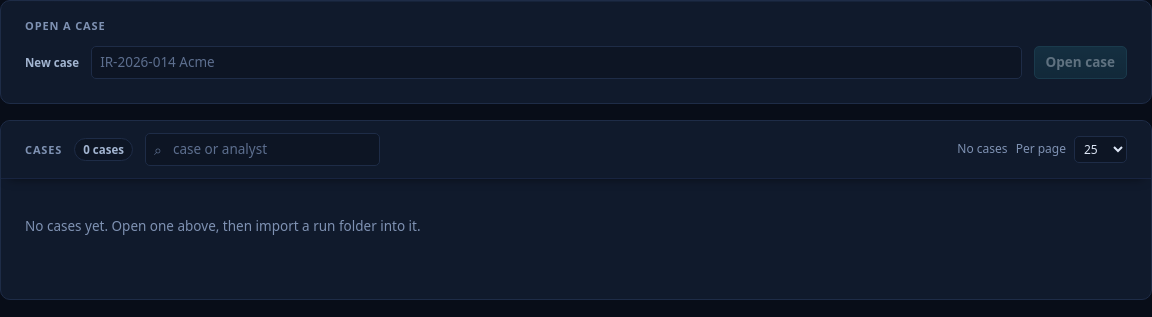
Test: the create button is disabled until a name is typed
Check: the text "No cases yet" is shown, box [25, 217, 421, 235]
Check: the button "Open case" is disabled, box [1034, 46, 1127, 79]
Type "IR-new" into the field labelled "New case" at {"x": 556, "y": 62}, box [91, 46, 1022, 79]
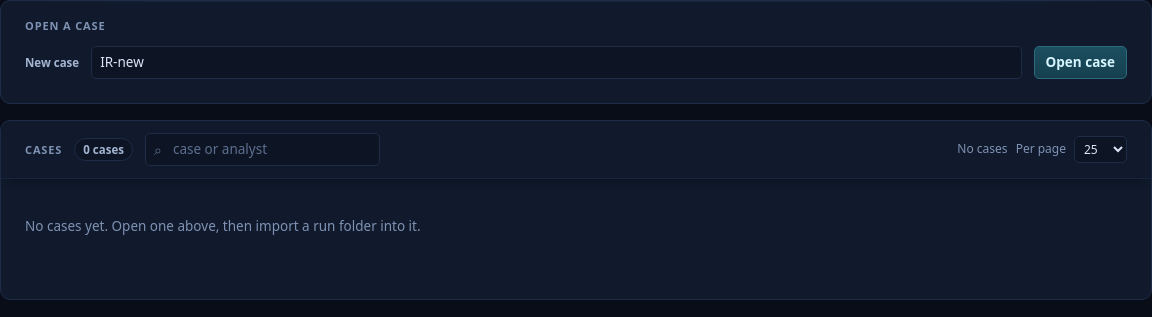
Check: the button "Open case" is enabled, box [1034, 46, 1127, 79]
